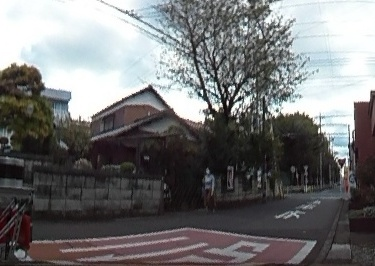person: (204, 165, 218, 210)
